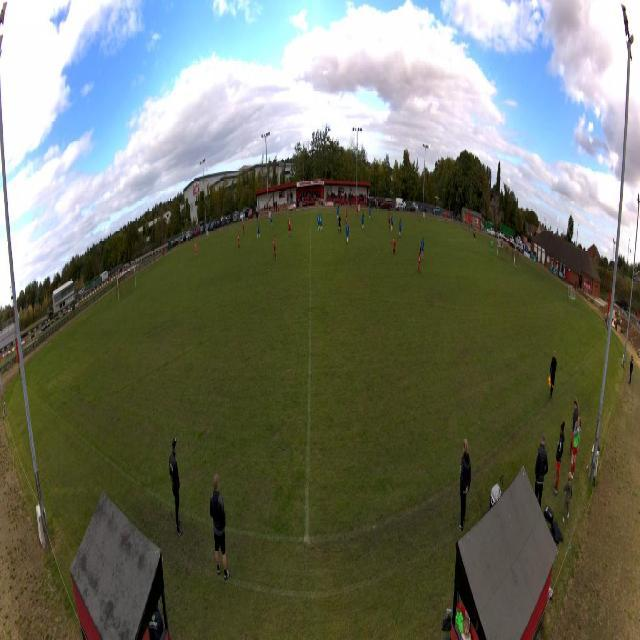player: (417, 245, 423, 275), (272, 234, 277, 261), (390, 238, 396, 257), (288, 217, 293, 238), (346, 221, 350, 247), (421, 236, 425, 262), (256, 221, 261, 241), (338, 213, 342, 235), (361, 211, 365, 232), (398, 218, 402, 239), (319, 212, 323, 232), (317, 212, 321, 232), (391, 213, 395, 232), (194, 241, 198, 259), (336, 204, 340, 221), (237, 229, 240, 250), (345, 207, 348, 226), (388, 212, 391, 231), (490, 238, 493, 255), (270, 213, 273, 229), (242, 220, 245, 236), (356, 203, 359, 219), (369, 206, 372, 222)
